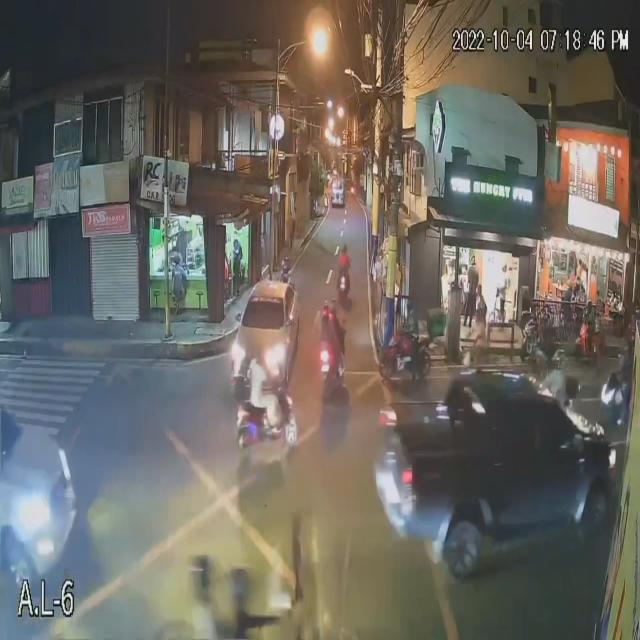Full-Faced: (276, 251, 291, 276), (340, 240, 349, 258)
